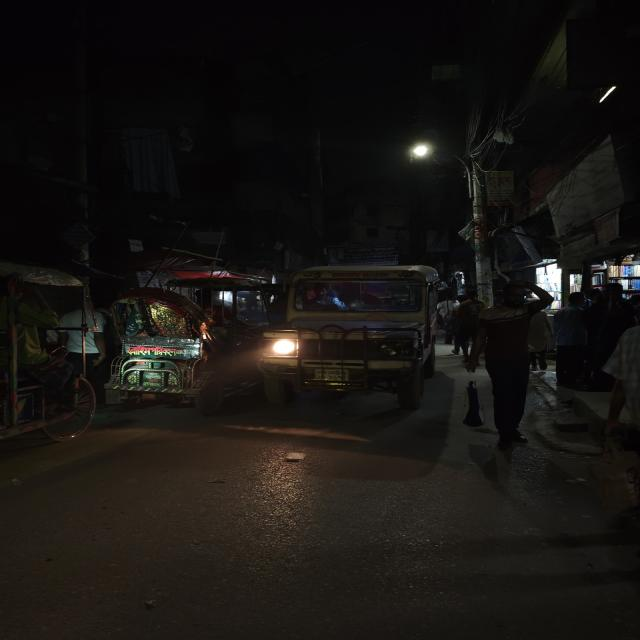human_hauler: (256, 266, 446, 404)
pedestrian: (462, 282, 558, 448), (600, 293, 640, 433), (553, 288, 595, 394), (602, 418, 640, 484), (451, 295, 476, 357)
rickshaw: (2, 262, 103, 451), (103, 286, 221, 414)
